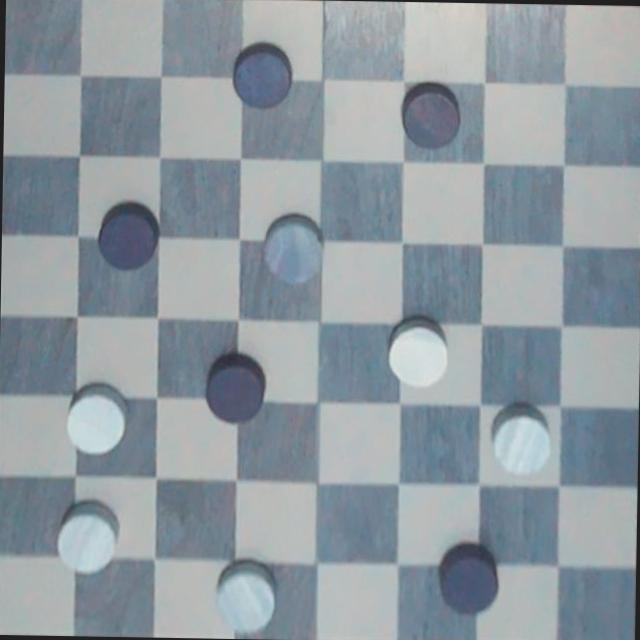BOARD: (0, 0, 640, 640)
black: (194, 344, 275, 431), (94, 192, 164, 274), (394, 76, 468, 152), (228, 38, 298, 116), (433, 542, 502, 615)
white: (256, 204, 338, 291), (56, 378, 132, 466), (50, 492, 124, 582), (206, 554, 280, 639), (379, 316, 456, 393), (484, 398, 554, 480)
